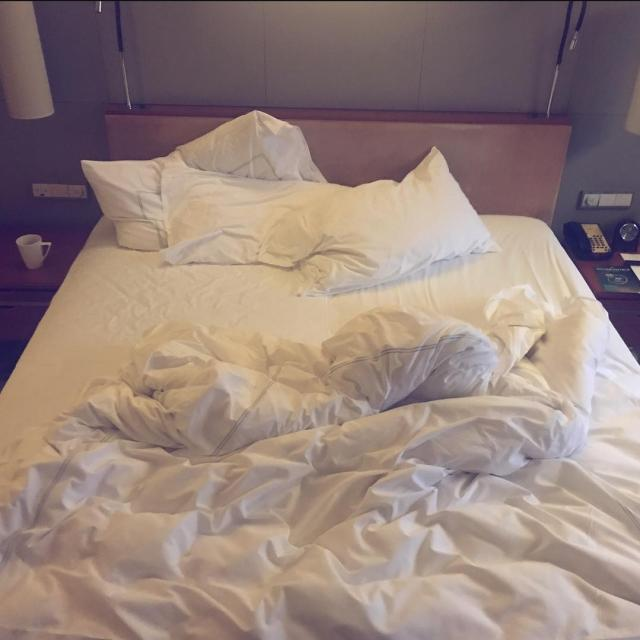bed: (33, 134, 599, 617)
